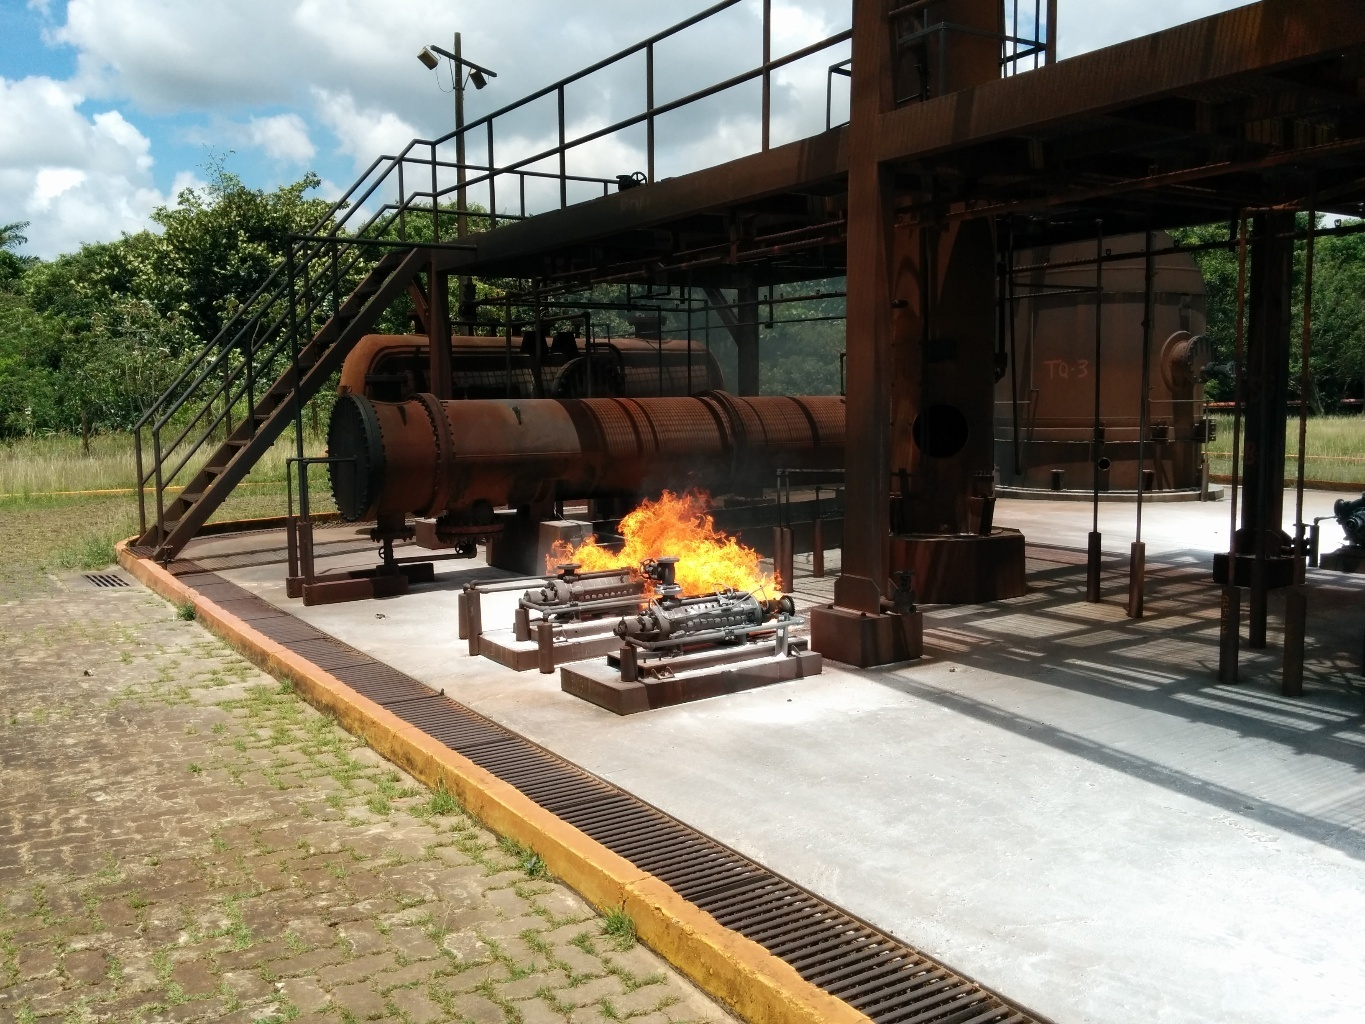fire: (546, 489, 788, 609)
